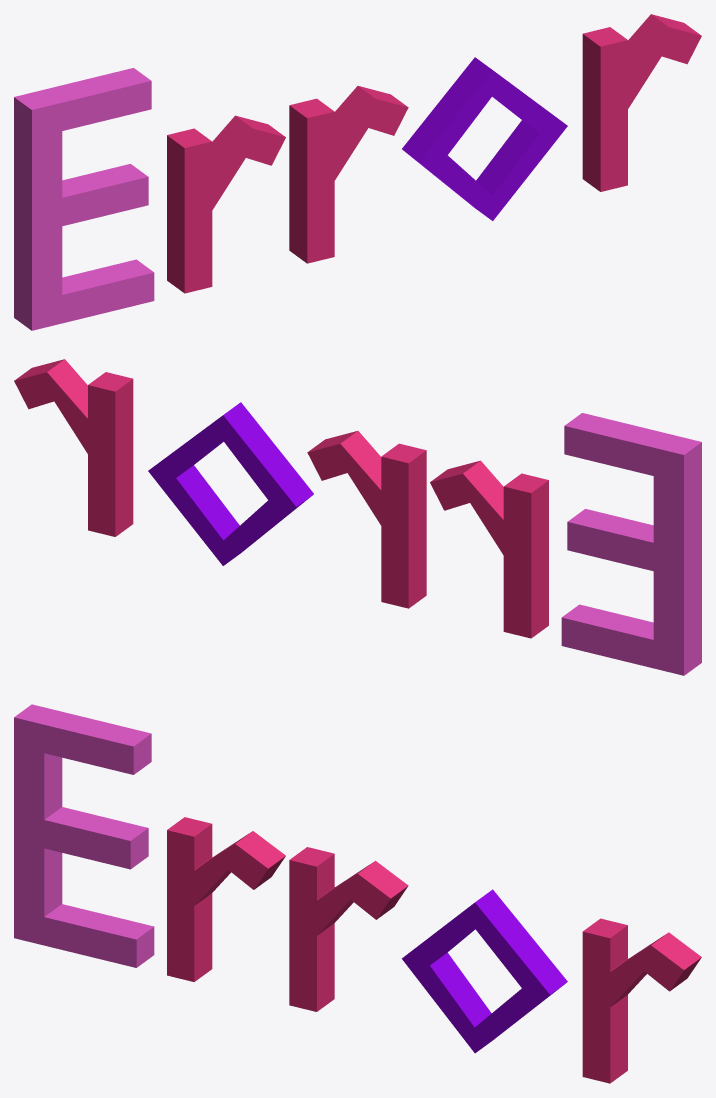
The model's file is error.gltf.
3 renders of one model, top to bottom at view 1: azimuth 30°, elevation 25°; view 2: azimuth 150°, elevation 25°; view 3: azimuth 330°, elevation 25°, orthographic.
Visible parts, largest first — view 1: Error; view 2: Error; view 3: Error.
Part boxes in pixels (x1,y1,x2,y2): Error: (14,14,701,330); Error: (14,359,701,675); Error: (14,704,701,1083).
Size of the model in its own units: 1.62 by 0.5183 by 0.075.
